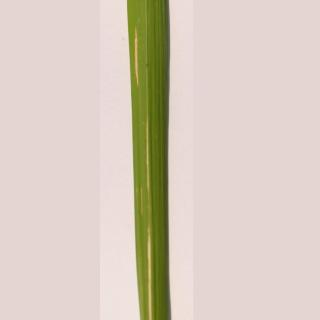Hawar-Daun: (135, 222, 174, 304), (136, 112, 164, 184), (130, 22, 143, 93)
